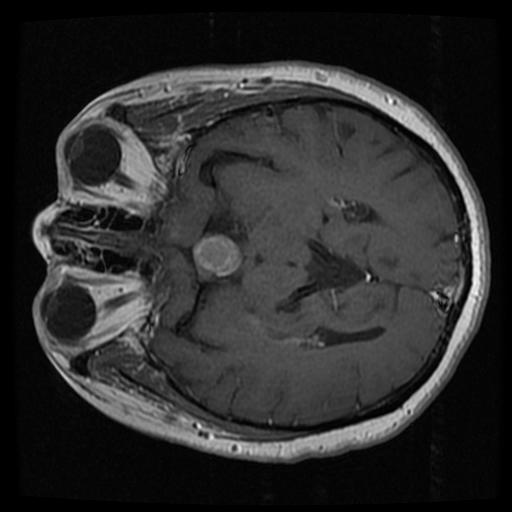pituitary tumour: (191, 233, 241, 278)
